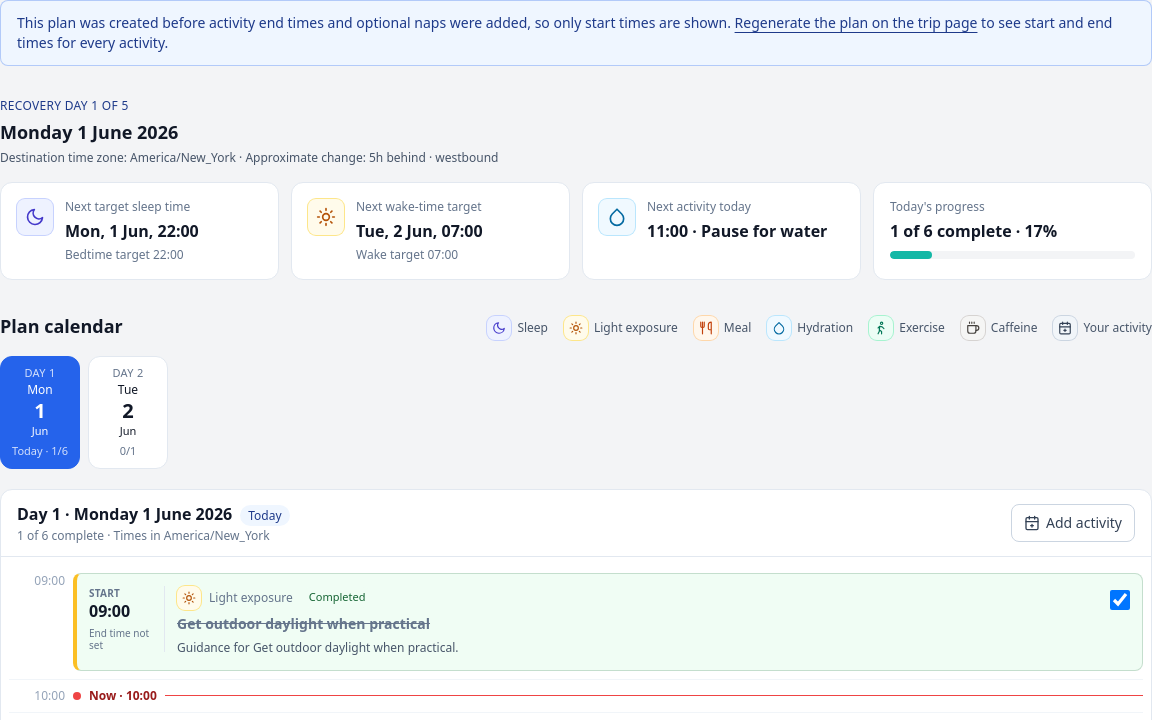
Test: DailyDashboard › switches to another plan day without showing the now marker
Step 1. Click the button "Day 2 Tue 2 Jun 0/1" → (128, 412), box [88,356,168,468]
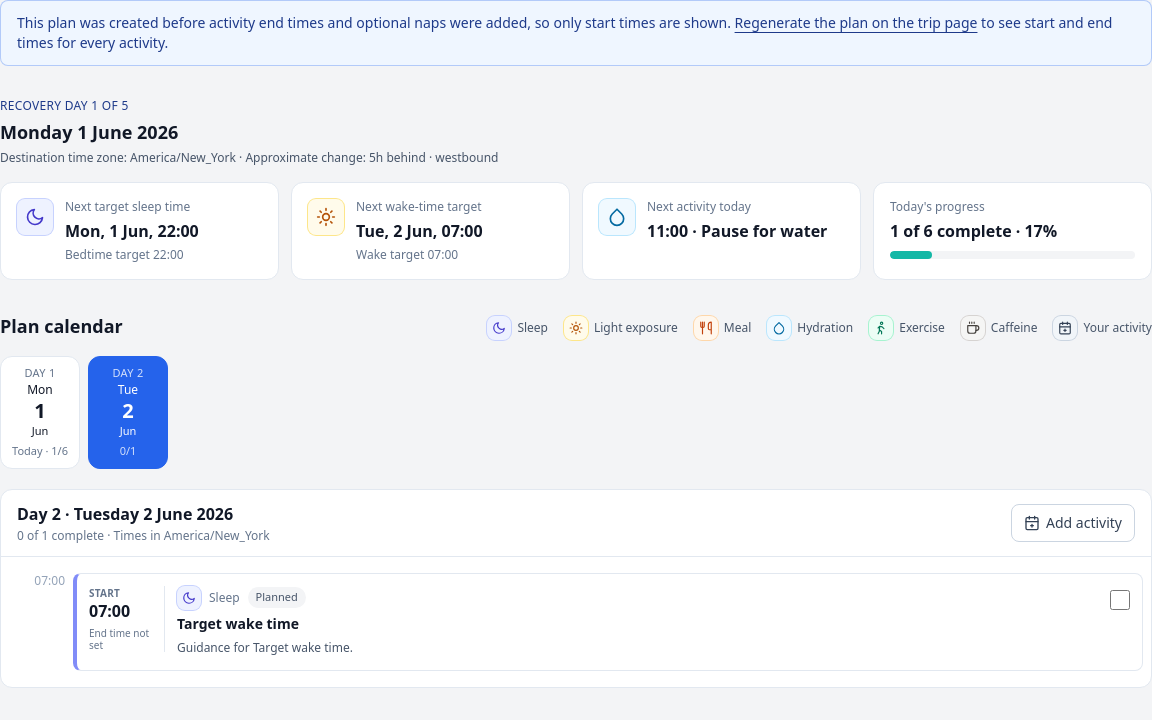
Check: the checkbox named "Mark complete: Target wake time at 07:00" is shown, box [1110,590,1130,610]
Check: the text "Now ·" is gone
